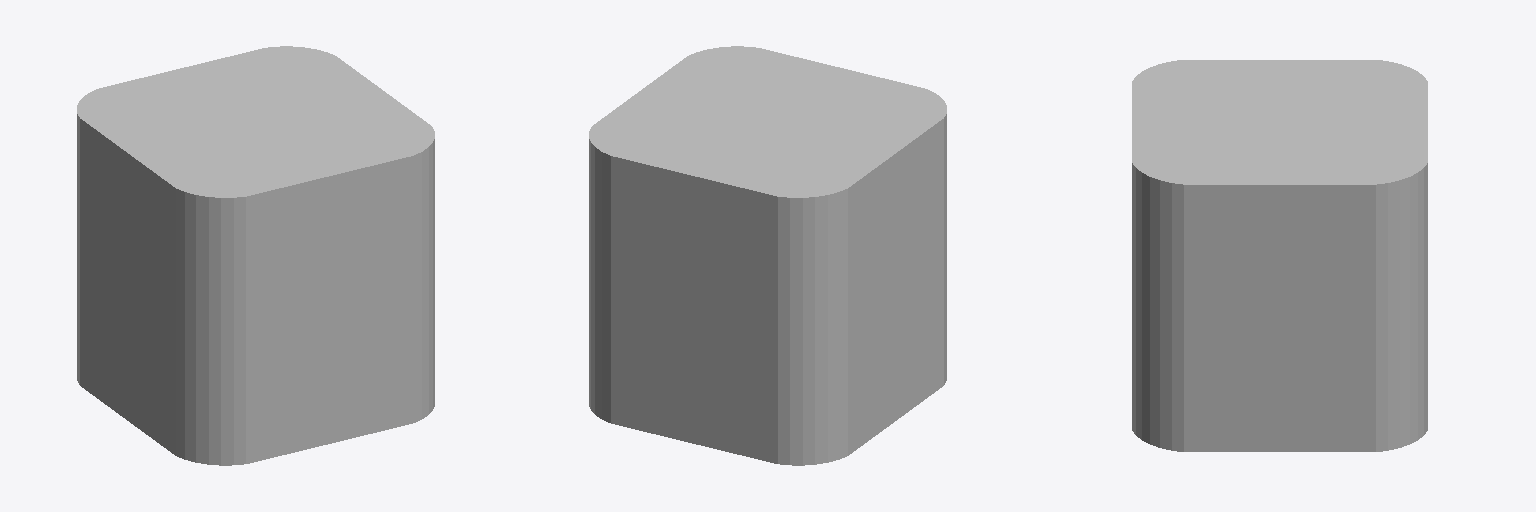
Rendered from cylindrical_cube.obj.
3 renders of one model, left to right at view 1: azimuth 30°, elevation 25°; view 2: azimuth 150°, elevation 25°; view 3: azimuth 270°, elevation 25°, orthographic.
Visible parts, largest first — view 1: Cylindrical_cube_mesh_5.Back, Cylindrical_cube_mesh_1.Top, Cylindrical_cube_mesh_4.Right, Cylindrical_cube_mesh_3.Left; view 2: Cylindrical_cube_mesh_6.Front, Cylindrical_cube_mesh_1.Top, Cylindrical_cube_mesh_4.Right, Cylindrical_cube_mesh_3.Left; view 3: Cylindrical_cube_mesh_3.Left, Cylindrical_cube_mesh_1.Top, Cylindrical_cube_mesh_5.Back, Cylindrical_cube_mesh_6.Front.
Part boxes in pixels (x1,y1,x2,y2): Cylindrical_cube_mesh_5.Back: (209, 143, 432, 465); Cylindrical_cube_mesh_1.Top: (77, 46, 434, 197); Cylindrical_cube_mesh_4.Right: (77, 114, 208, 464); Cylindrical_cube_mesh_3.Left: (433, 139, 434, 408); Cylindrical_cube_mesh_6.Front: (591, 143, 814, 465); Cylindrical_cube_mesh_1.Top: (589, 46, 946, 197); Cylindrical_cube_mesh_4.Right: (815, 114, 946, 464); Cylindrical_cube_mesh_3.Left: (589, 139, 590, 408); Cylindrical_cube_mesh_3.Left: (1150, 177, 1409, 451); Cylindrical_cube_mesh_1.Top: (1132, 60, 1427, 184); Cylindrical_cube_mesh_5.Back: (1132, 163, 1149, 443); Cylindrical_cube_mesh_6.Front: (1410, 163, 1427, 443).
Bounding box in the file's own units: 1 × 1 × 1.